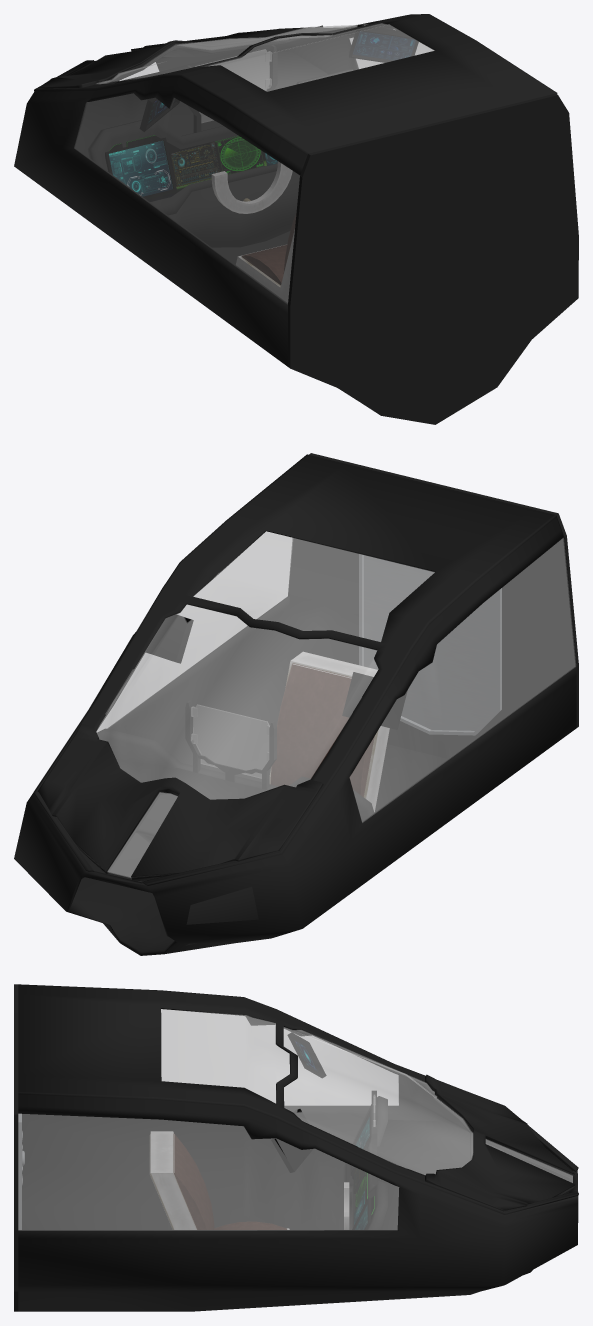
Rendered from Spaceship updated.fbx.
3 views of the same model, one above another, from view 1: azimuth 30°, elevation 25°; view 2: azimuth 150°, elevation 25°; view 3: azimuth 270°, elevation 25° (orthographic). The views are drawn at different scales.
Parts seen in each view (by area): view 1: flr, Glass, monitor, Cube, pCube13, monitor2, controls, Cube.001, monitor1; view 2: flr, Glass, Cube.002, Cube, monitor2, monitor1; view 3: flr, Glass, Cube, monitor2, monitor1, Cube.002, monitor.
Part boxes in pixels (x1,y1,x2,y2): flr: (14,14,578,424); Glass: (74,23,434,304); monitor: (105,137,176,198); Cube: (236,214,296,302); pCube13: (105,135,266,201); monitor2: (349,24,418,62); controls: (169,141,220,186); Cube.001: (211,161,292,213); monitor1: (139,97,179,131); flr: (14,453,578,955); Glass: (96,531,575,877); Cube.002: (359,554,501,735); Cube: (269,651,389,811); monitor2: (146,614,193,663); monitor1: (342,672,407,729); flr: (14,984,578,1311); Glass: (18,1009,572,1230); Cube: (149,1131,289,1229); monitor2: (271,1109,312,1172); monitor1: (287,1032,326,1078); Cube.002: (18,1113,24,1229); monitor: (350,1110,371,1176).
Size of the model in its own units: 23.51 by 23.34 by 44.89.
